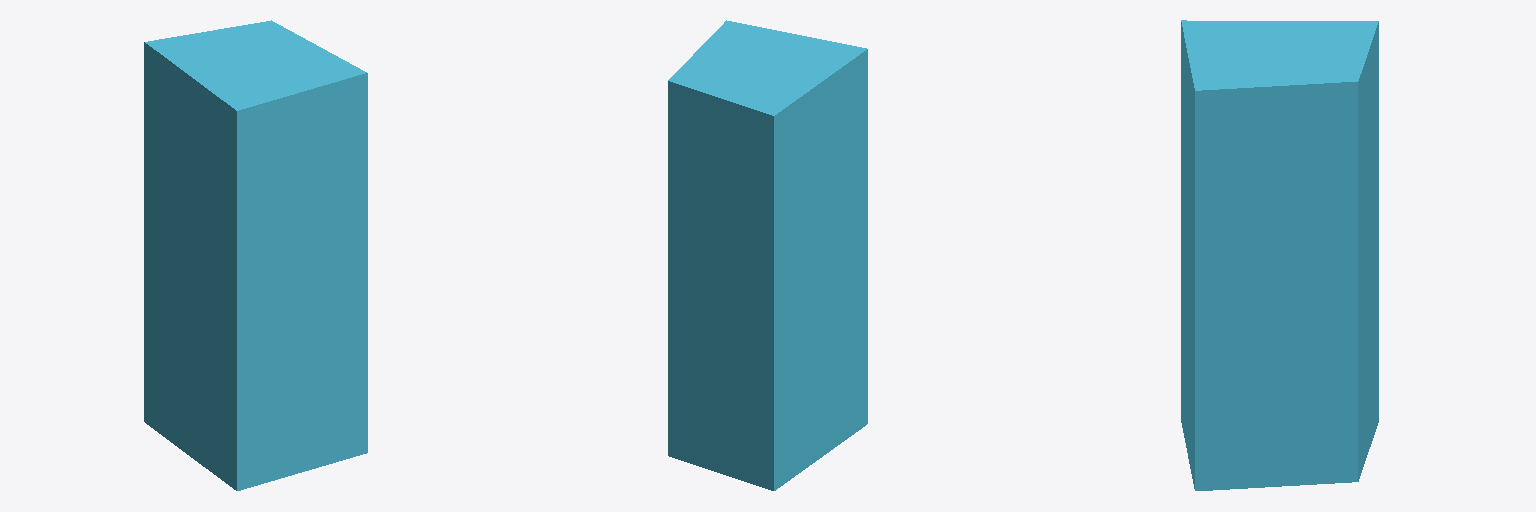
URDF robot description (quad_prism_2):
<?xml version="1.0" ?>
<robot name="quad_prism_2">
  <link name="base_link">
    <visual>
      <origin xyz="0 0 0" rpy="0 0 0"/>
      <geometry>
        <mesh filename="quad_prism_2.stl"/>
      </geometry>
      <material name="color">
        <color rgba="0.3845361322864218 0.8106569794799533 0.9214807213025606 1.0"/>
      </material>
    </visual>
    <collision>
      <origin xyz="0 0 0" rpy="0 0 0"/>
      <geometry>
        <mesh filename="quad_prism_2.stl"/>
      </geometry>
    </collision>
    <inertial>
      <origin xyz="0 0 0" rpy="0 0 0"/>
      <mass value="1.0"/>
      <inertia ixx="0.1" ixy="0" ixz="0" iyy="0.1" iyz="0" izz="0.1"/>
    </inertial>
  </link>
</robot>

--- Facts derived from the render (not from the file) ---
Views: 3 orthographic renders of the robot side by side, from view 1: azimuth 30°, elevation 25°; view 2: azimuth 150°, elevation 25°; view 3: azimuth 270°, elevation 25°.
Robot: quad_prism_2 — 1 links, 0 joints (none); root link base_link; default pose: every joint at zero.
Links seen in each view (by area): view 1: base_link; view 2: base_link; view 3: base_link.
Link boxes in pixels (x1,y1,x2,y2): base_link: (144,20,367,490); base_link: (668,20,867,490); base_link: (1181,20,1378,490).
Bounding box of the posed robot: 1.13 × 1.34 × 3 m (x, y, z).
1 mesh visuals loaded from 1 distinct referenced files (1 binary STL).